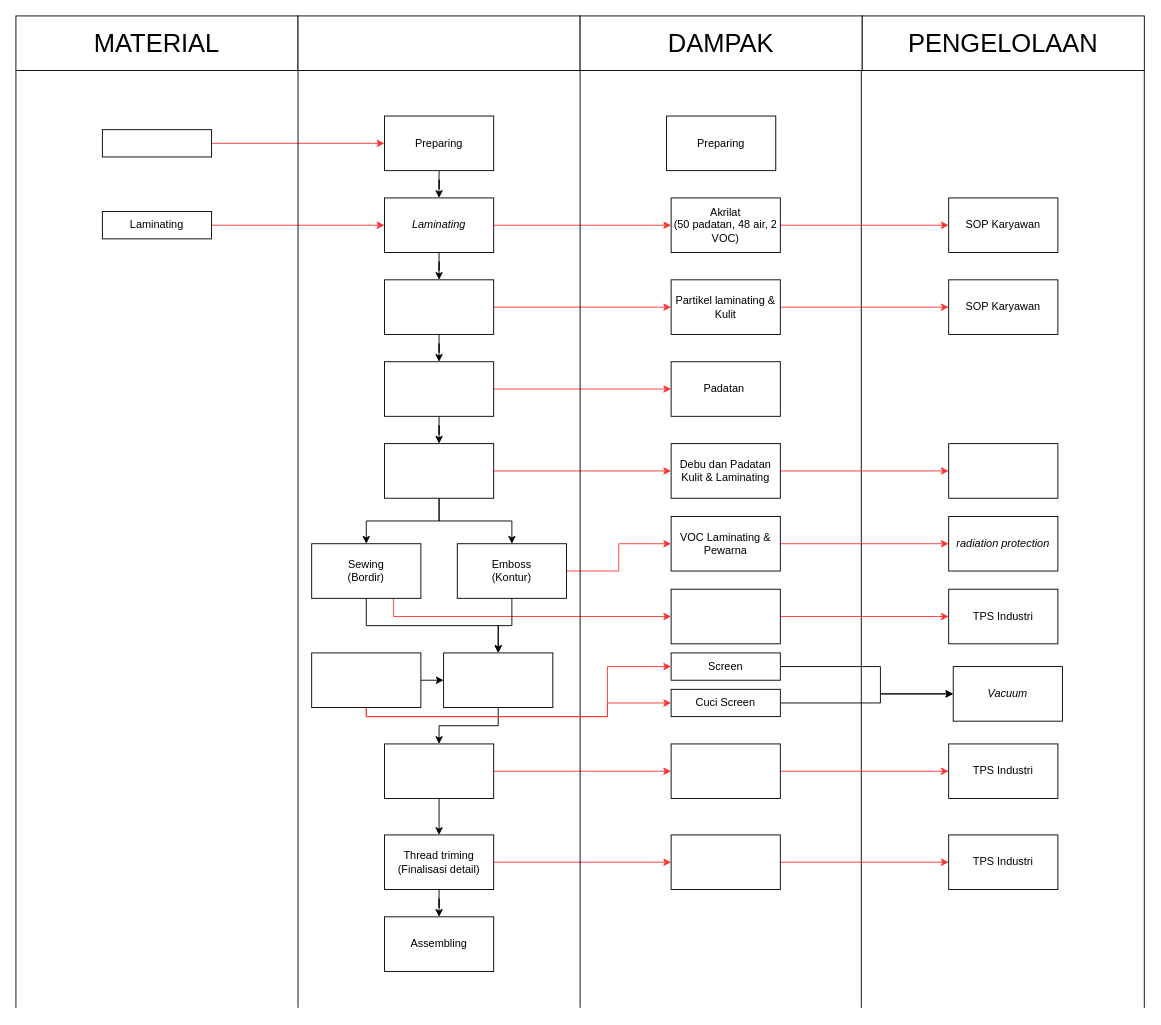
This 1161x1025 diagram has some shape labels left out. Each missing label, with the centre of its shape:
"2nd Process Output" belongs at point (366, 680).
"Buffing & Skyving (Perataan)" belongs at point (439, 470).
"Cutting" belongs at point (439, 388).
"Kulit Sintetis" belongs at point (156, 143).
"Padatan Kulit" belongs at point (725, 771).
"Padatan Kulit & Benang" belongs at point (725, 862).
"Pounching (Pelubangan)" belongs at point (439, 771).
"PROSES" belongs at point (438, 43).
"Rolling" belongs at point (439, 306).
"Solid" belongs at point (725, 616).
"SOP Karyawan & TPS Industri" belongs at point (1003, 470).
"Stiching (Pembentukan Upper )" belongs at point (498, 680).
